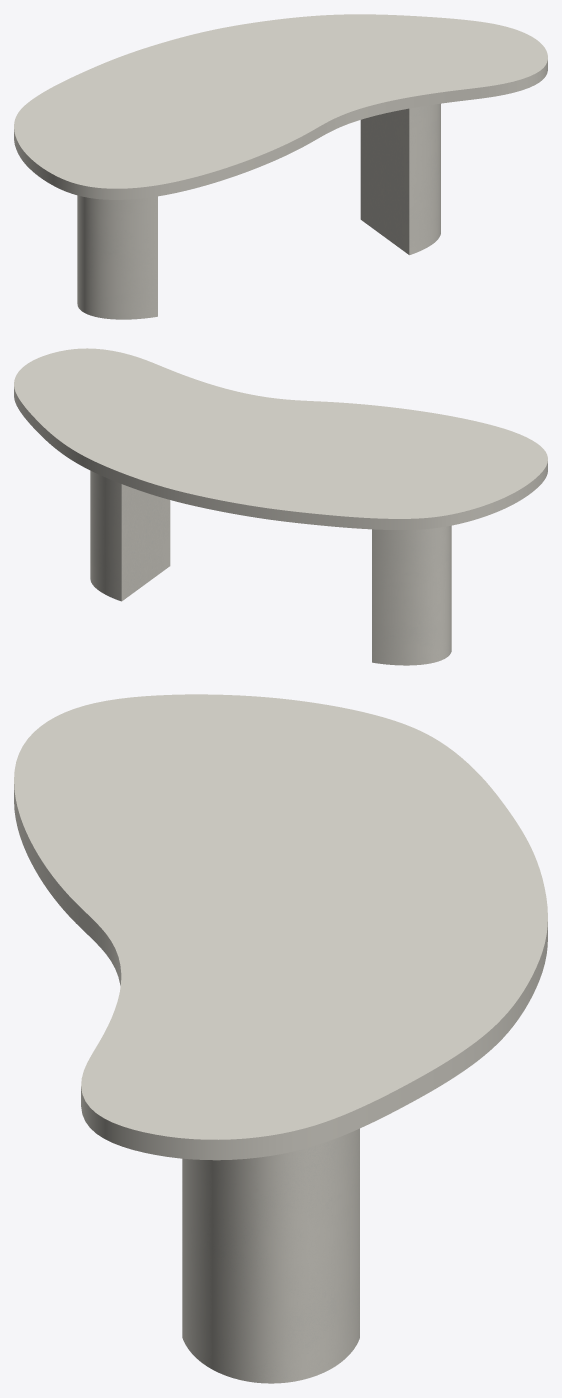
The model's file is pale_leaf1_standard_hillside.glb.
3 renders of one model, top to bottom at view 1: azimuth 30°, elevation 25°; view 2: azimuth 150°, elevation 25°; view 3: azimuth 270°, elevation 25°, orthographic. The views are drawn at different scales.
Parts seen in each view (by area): view 1: standard_leaf1, hillside; view 2: standard_leaf1, hillside; view 3: standard_leaf1, hillside.
Boxes of the visible parts, x1,y1,x2,y2 form: standard_leaf1: [14, 14, 547, 199]; hillside: [77, 103, 440, 319]; standard_leaf1: [14, 348, 547, 529]; hillside: [90, 470, 451, 665]; standard_leaf1: [14, 694, 547, 1160]; hillside: [182, 1128, 359, 1383].
Size of the model in its own units: 7.5 by 2.51 by 3.8.
1 material, 1 textured.
